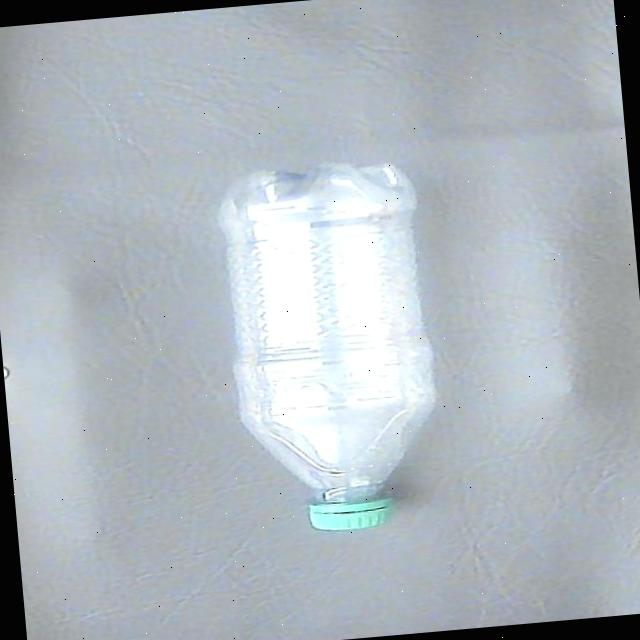bottle: (204, 153, 456, 542)
cap: (297, 494, 403, 530)
